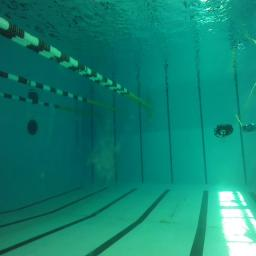Full: (241, 122, 256, 133)
Side: (214, 123, 232, 137)
